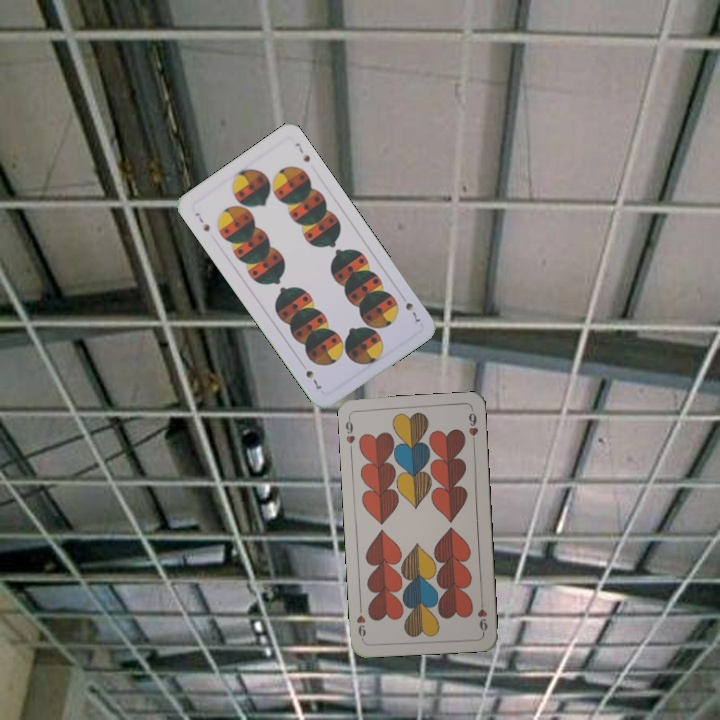H9: (341, 413, 358, 454), (474, 595, 490, 635)
S7: (401, 298, 423, 326), (190, 208, 212, 234)
